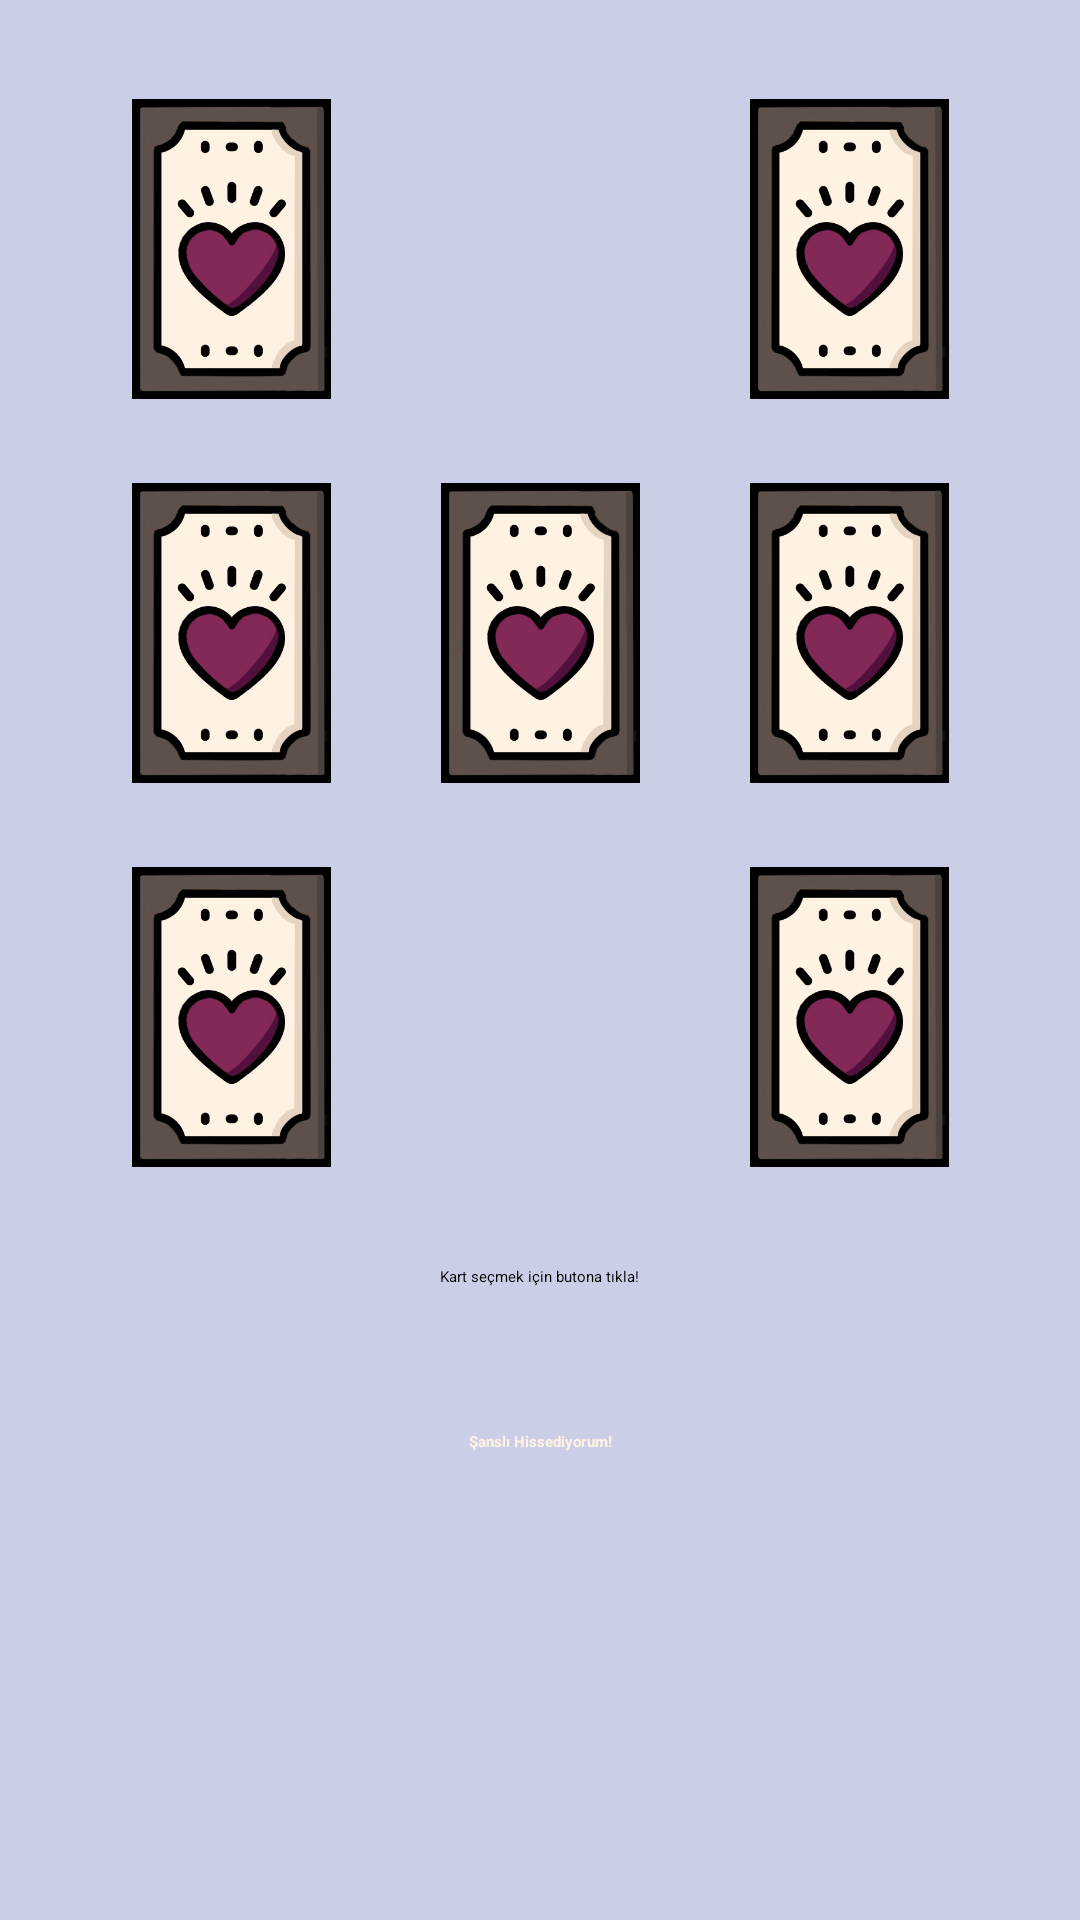

Named icons in this screenshot (1080 × 1920) and their centers, (x,y):
lovegoth: (231,249), (849,249), (231,633), (540,633), (849,633), (231,1017), (849,1017)
